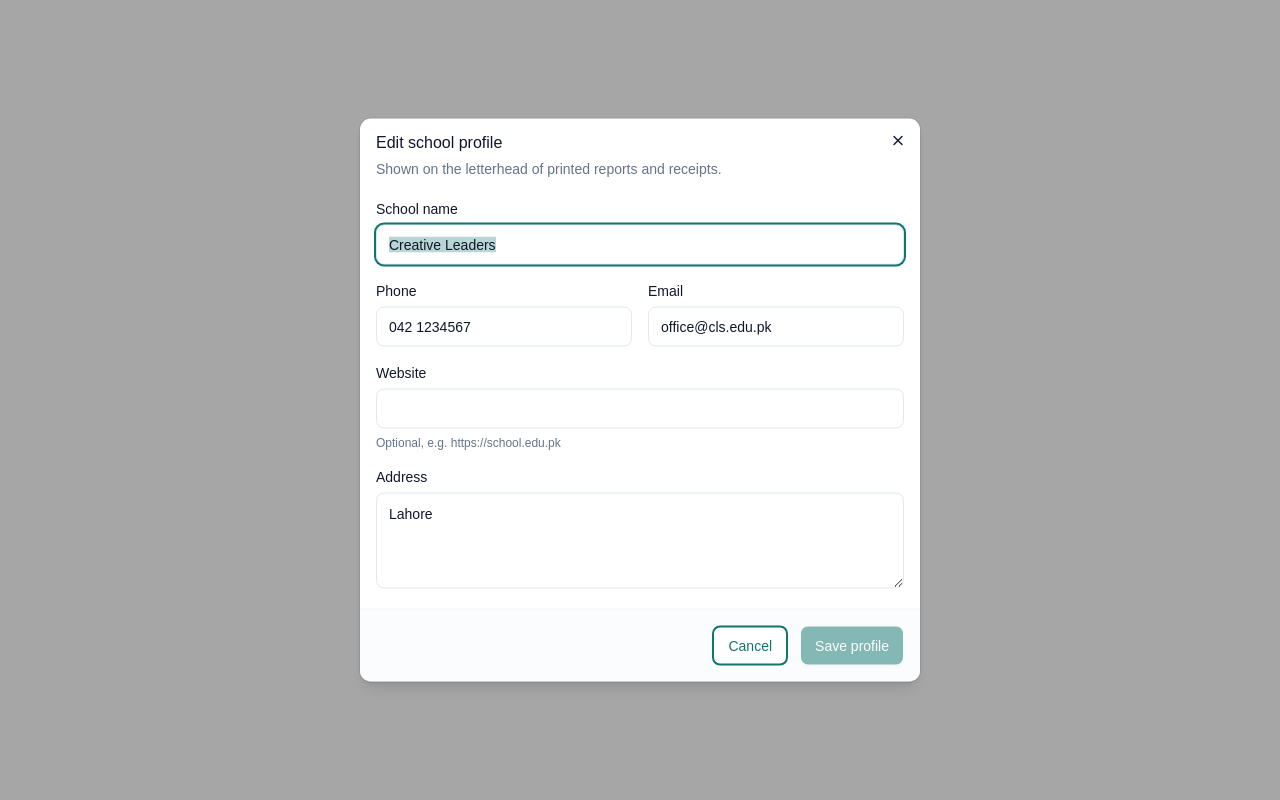
it: SchoolProfileDialog › shows the server's error
Replace the text in the field named "Email" with "taken@cls.edu.pk" at (776, 326), box [648,306,904,346]
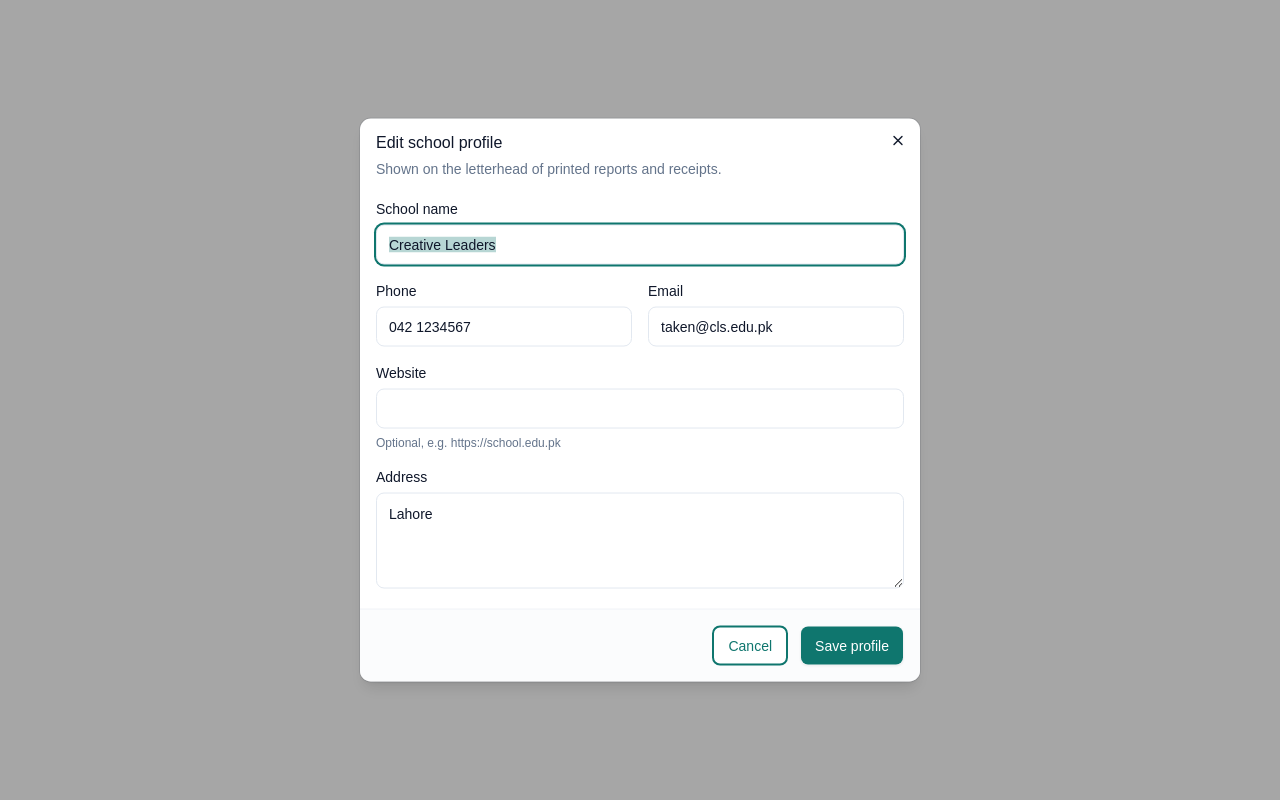
Click the button "Save profile" at (852, 646), box [800,626,904,666]
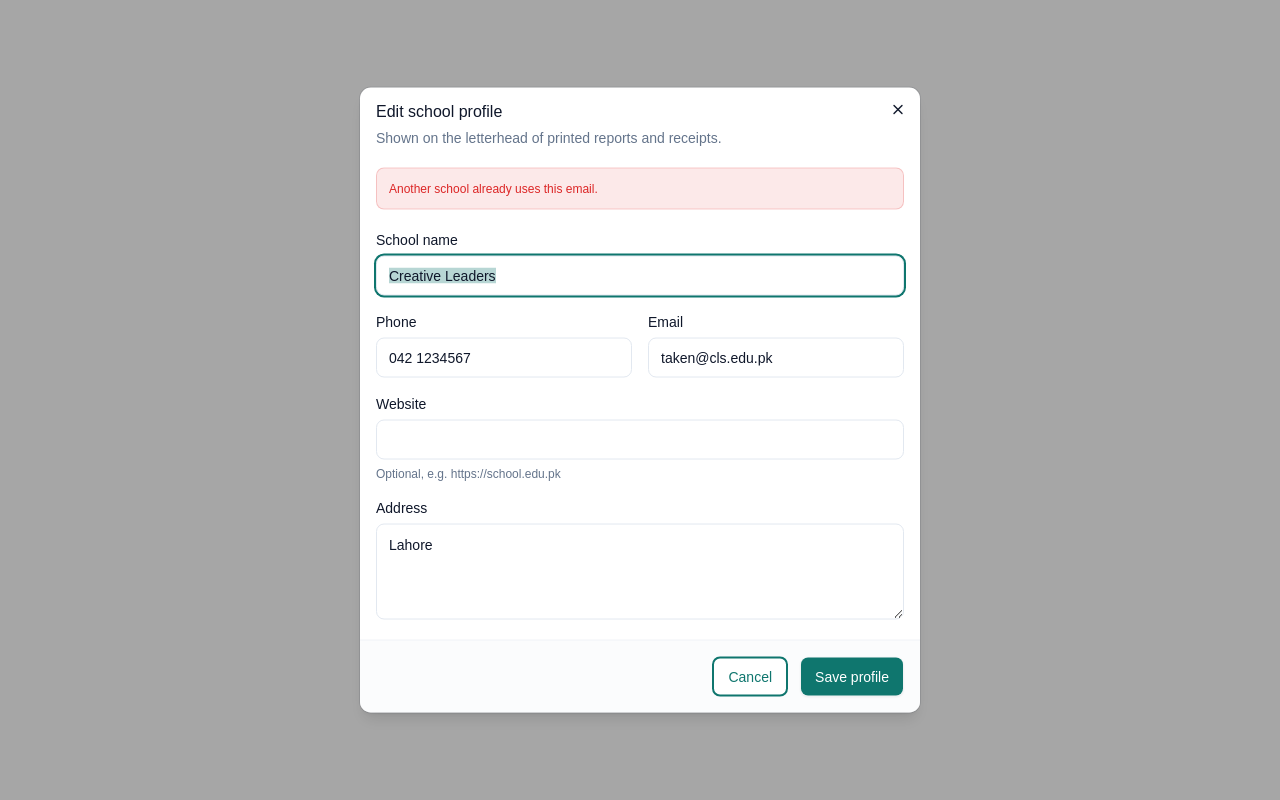
Expected: the text "Another school already uses this email." is shown, [376,168,904,210]
